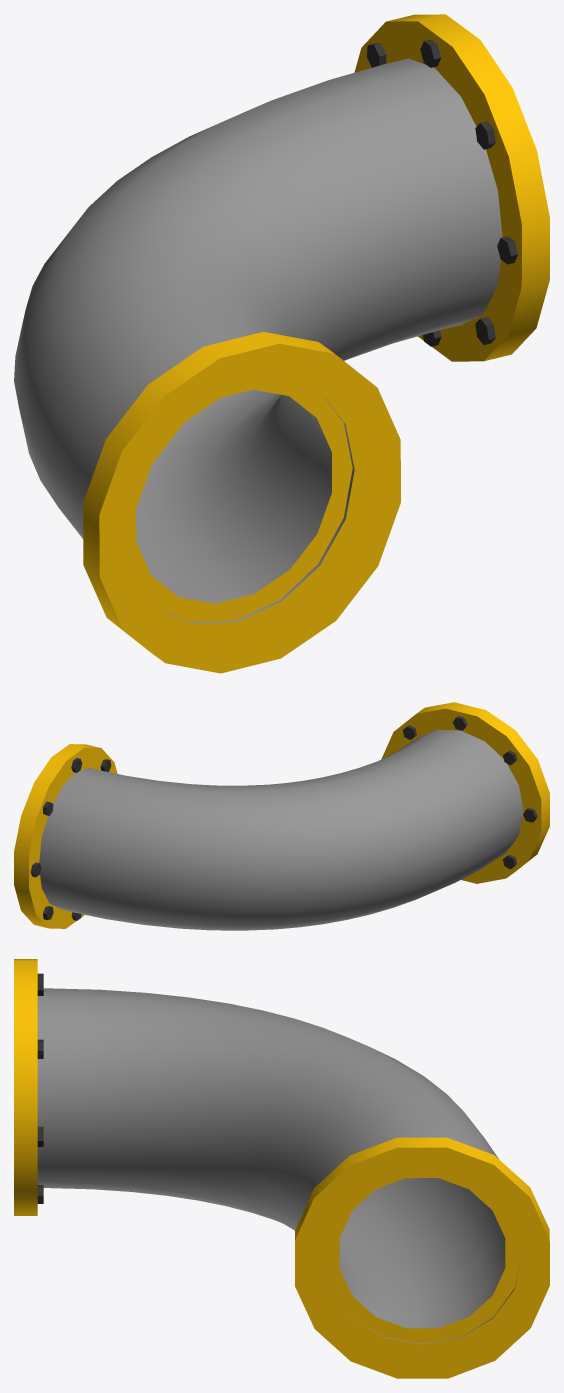
File: pipe bend 1.fbx
3 views of the same model, one above another, from view 1: azimuth 30°, elevation 25°; view 2: azimuth 150°, elevation 25°; view 3: azimuth 270°, elevation 25° (orthographic). The views are drawn at different scales.
Parts seen in each view (by area): view 1: Bend_Pipe; view 2: Bend_Pipe; view 3: Bend_Pipe.
Boxes of the visible parts, x1,y1,x2,y2 form: Bend_Pipe: (14, 14, 549, 673); Bend_Pipe: (14, 702, 549, 930); Bend_Pipe: (14, 959, 549, 1378).
Bounding box in the file's own units: 68.74 × 32.28 × 67.82.
